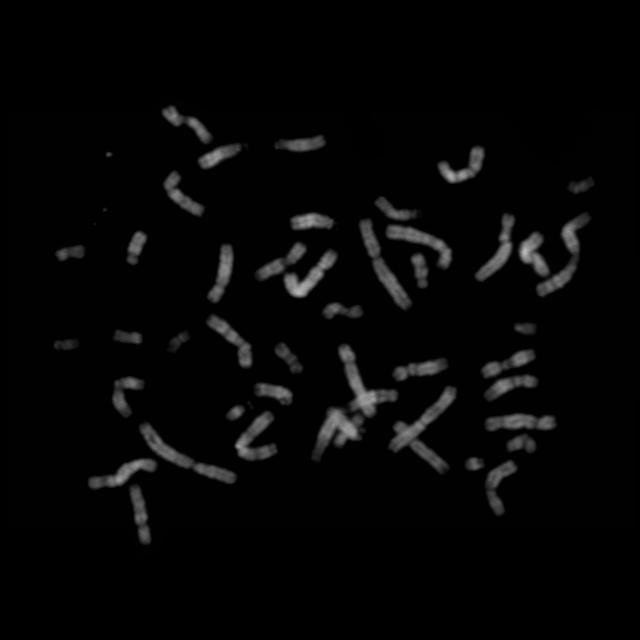chromosome: (137, 424, 237, 486), (536, 215, 592, 298), (360, 218, 410, 310), (389, 386, 455, 452), (386, 224, 454, 268), (392, 421, 448, 473), (474, 214, 514, 282), (340, 345, 376, 417), (88, 456, 158, 492), (284, 250, 336, 298), (208, 316, 252, 368), (236, 412, 278, 460), (256, 240, 306, 280), (162, 105, 212, 144), (164, 170, 203, 217), (485, 459, 517, 515), (483, 348, 537, 378), (439, 146, 483, 182), (484, 374, 538, 402), (208, 244, 234, 302), (313, 410, 342, 460), (483, 412, 555, 432), (128, 486, 152, 546), (111, 376, 144, 419), (518, 234, 548, 278), (396, 356, 446, 382), (198, 143, 242, 171), (350, 387, 398, 411), (328, 408, 360, 442), (374, 197, 418, 220), (272, 134, 326, 152), (336, 416, 366, 446), (274, 343, 302, 375), (255, 382, 291, 406), (291, 213, 334, 233), (323, 301, 361, 321), (126, 231, 146, 267), (412, 252, 430, 290), (112, 328, 142, 346), (57, 242, 83, 262), (508, 436, 536, 454), (167, 331, 188, 354), (222, 402, 243, 424), (53, 337, 81, 351), (464, 456, 486, 472)
